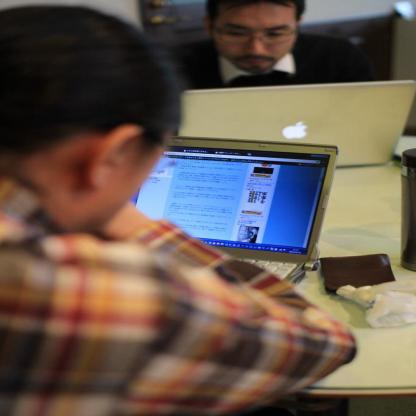board: (133, 135, 340, 286), (174, 82, 412, 167)
